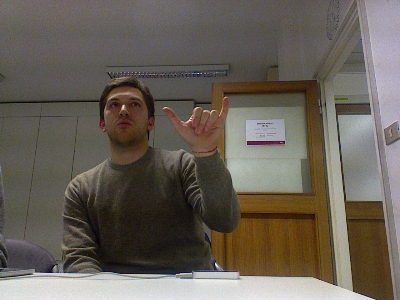六六六: (160, 95, 228, 153)
